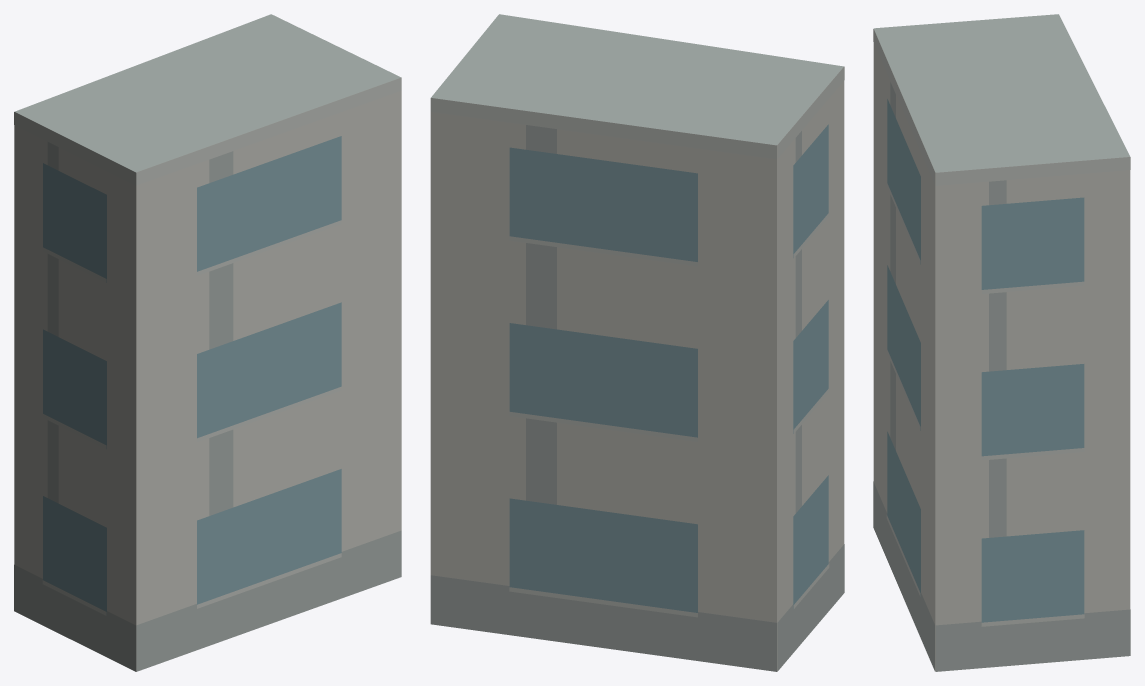
File: survey-upis-32928238.glb
The picture shows the model from 3 angles, left to right: view 1: azimuth 30°, elevation 25°; view 2: azimuth 150°, elevation 25°; view 3: azimuth 270°, elevation 25°; orthographic projection. The views are drawn at different scales.
Visible parts, largest first — view 1: survey-upis-32928238.tmp; view 2: survey-upis-32928238.tmp; view 3: survey-upis-32928238.tmp.
Part boxes in pixels (x1=…): survey-upis-32928238.tmp: x1=14, y1=14, x2=401, y2=671; survey-upis-32928238.tmp: x1=430, y1=14, x2=844, y2=671; survey-upis-32928238.tmp: x1=873, y1=14, x2=1130, y2=671.
Size of the model in its own units: 6.25 by 9.15 by 4.28.
